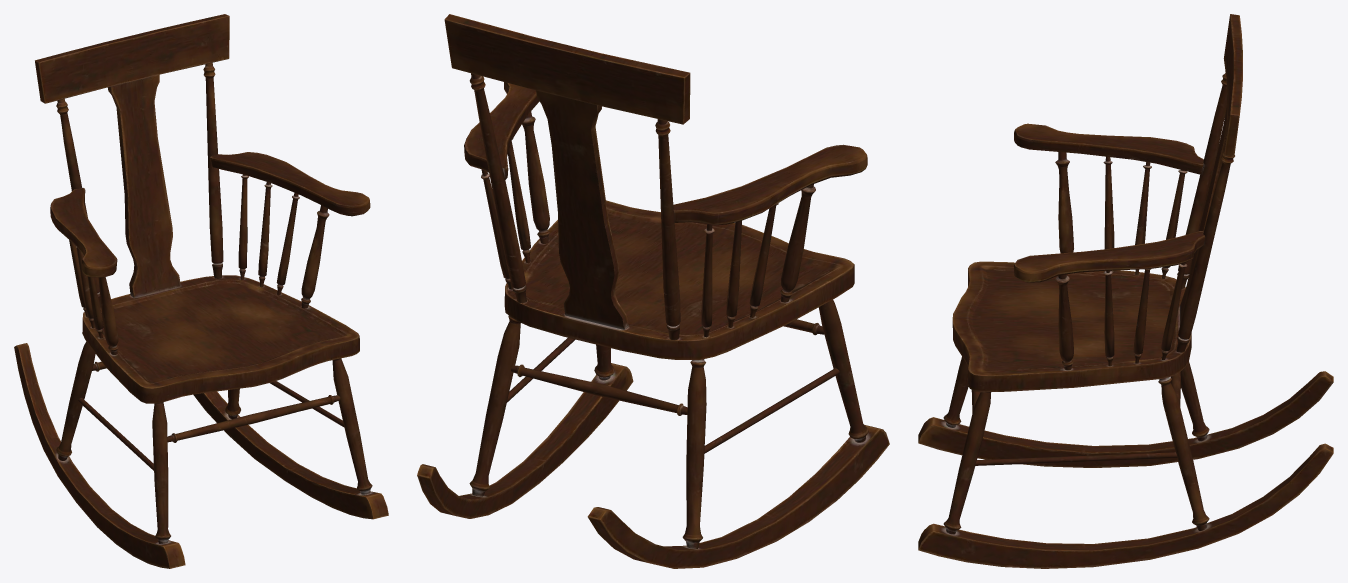
Rendered from Rockingchair_01.glb.
The picture shows the model from 3 angles, left to right: view 1: azimuth 30°, elevation 25°; view 2: azimuth 150°, elevation 25°; view 3: azimuth 270°, elevation 25°; orthographic projection. The views are drawn at different scales.
Parts seen in each view (by area): view 1: Rockingchair_01; view 2: Rockingchair_01; view 3: Rockingchair_01.
Boxes of the visible parts, x1,y1,x2,y2 form: Rockingchair_01: (14, 14, 388, 568); Rockingchair_01: (417, 14, 889, 568); Rockingchair_01: (918, 14, 1333, 568).
Size of the model in its own units: 0.7081 by 0.9949 by 0.8335.
1 material, 1 textured.
